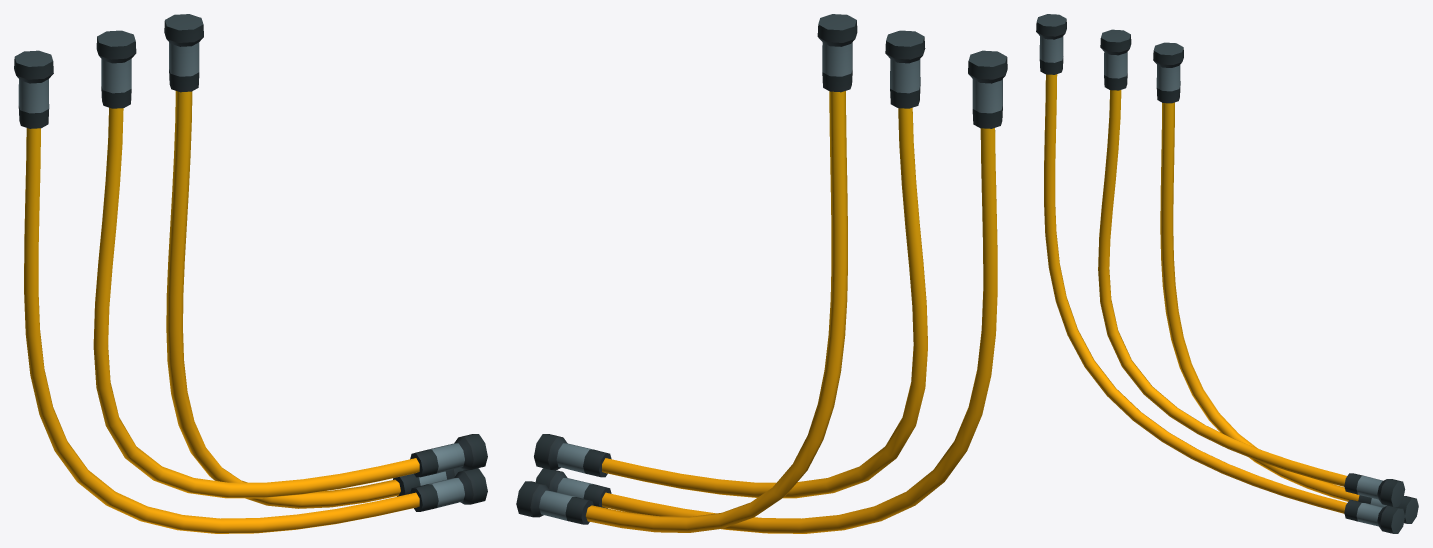
Rendered from Cable_type_C_009.fbx.
3 views of the same model, side by side, from view 1: azimuth 30°, elevation 25°; view 2: azimuth 150°, elevation 25°; view 3: azimuth 330°, elevation 25° (orthographic). The views are drawn at different scales.
Parts seen in each view (by area): view 1: Cable_type_C_009; view 2: Cable_type_C_009; view 3: Cable_type_C_009.
Part boxes in pixels (x1,y1,x2,y2): Cable_type_C_009: (14,14,487,533); Cable_type_C_009: (516,14,1007,533); Cable_type_C_009: (1036,14,1418,533).
Bounding box in the file's own units: 116 × 15.95 × 132.
